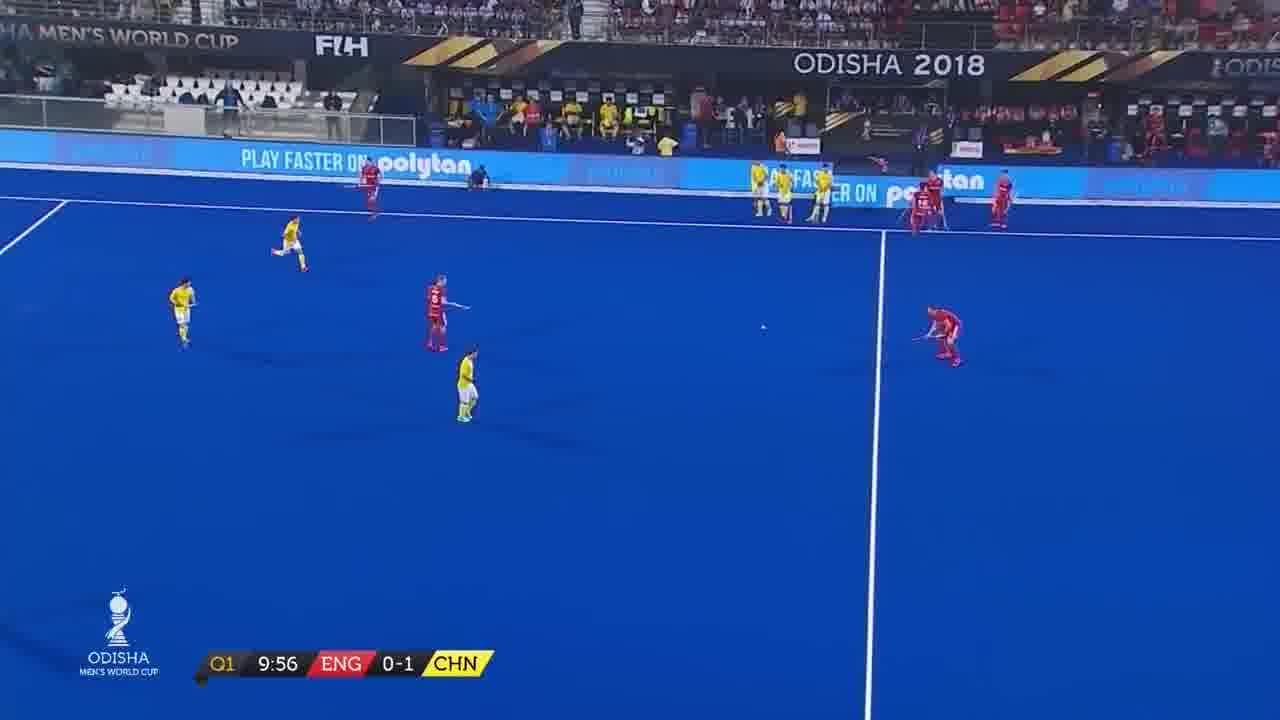ball: (758, 324, 771, 335)
